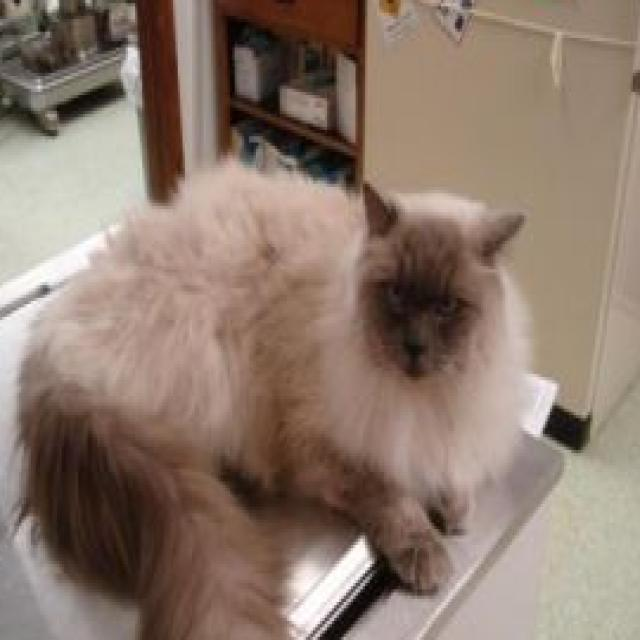Ragdoll: (9, 145, 530, 640)
